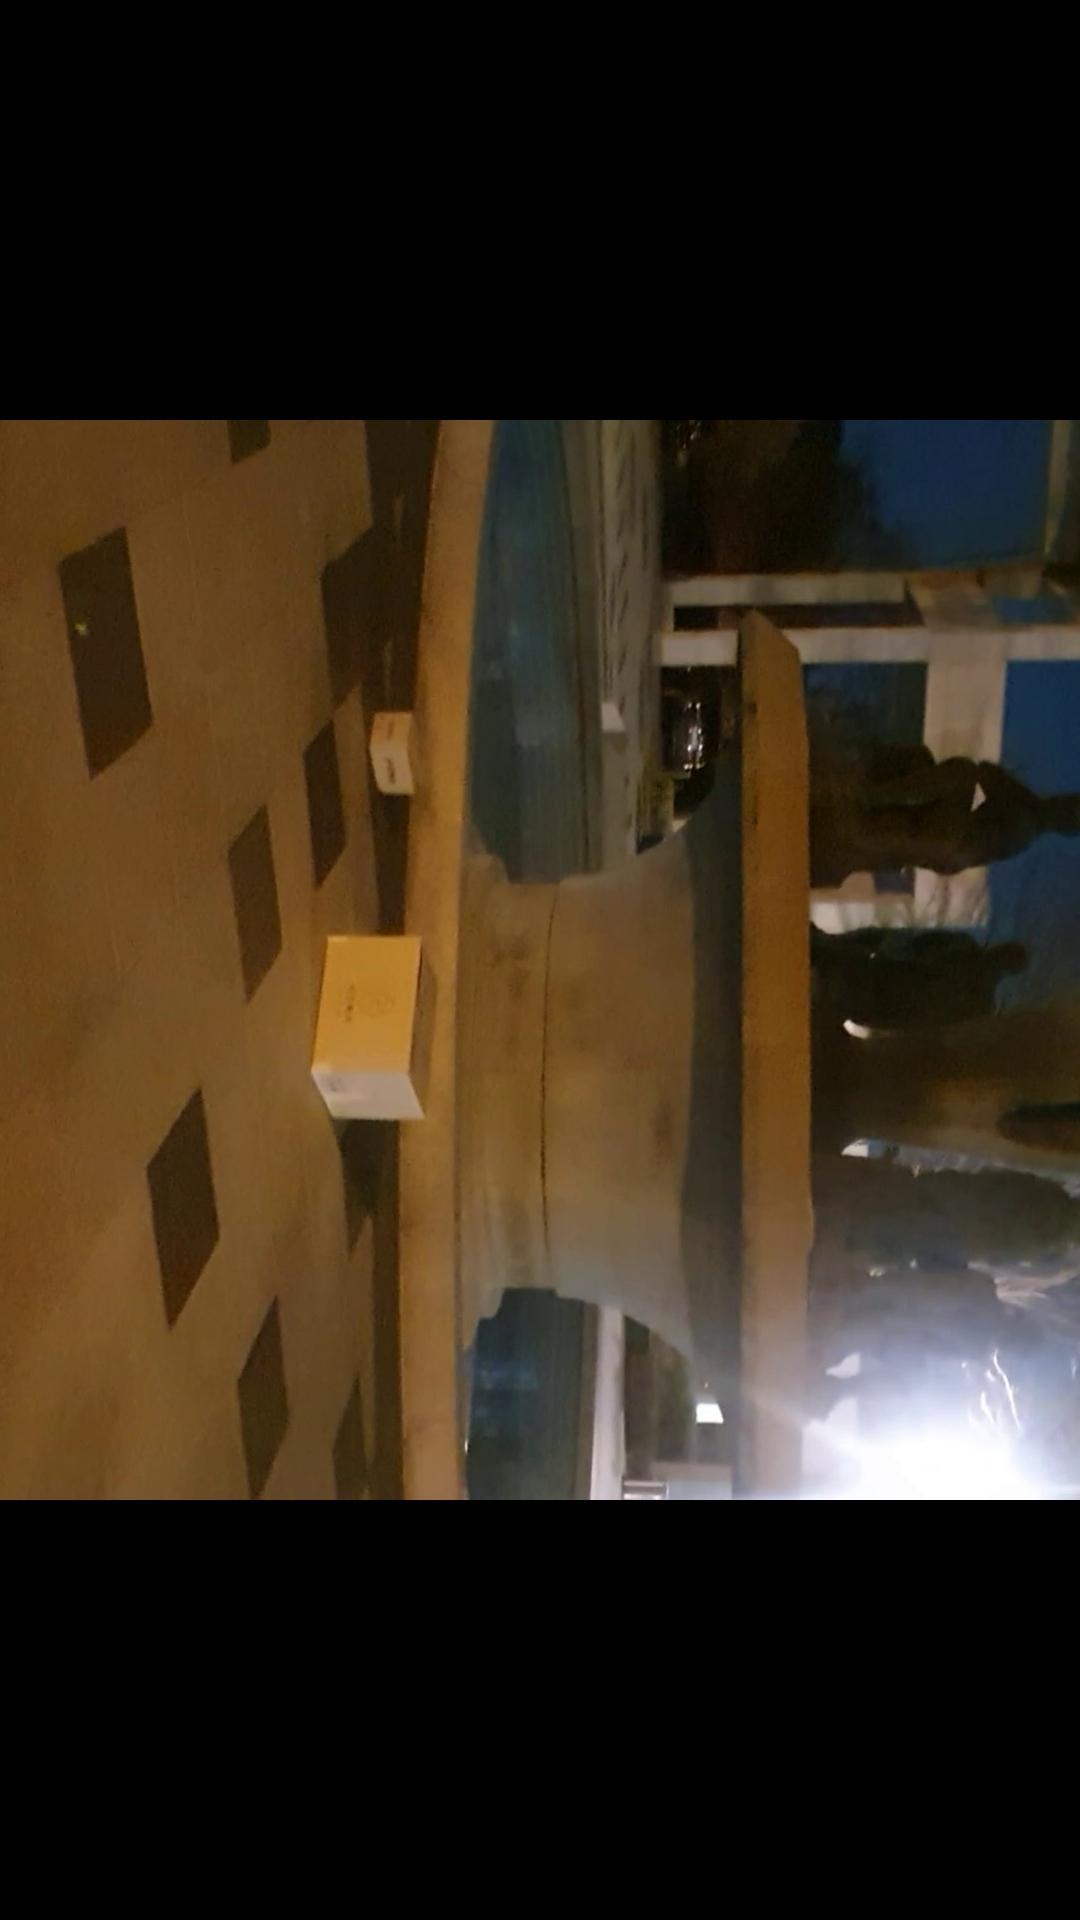Box: (310, 923, 452, 1139), (355, 694, 435, 802)
